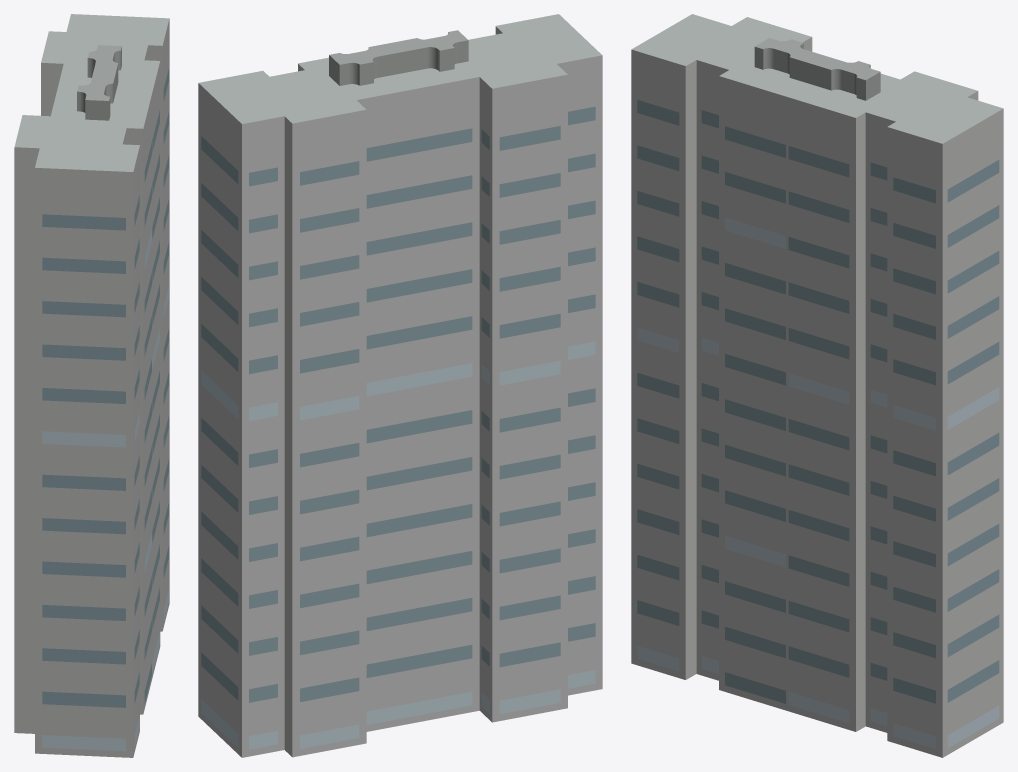
File: fallback-lake-palace-111.glb
3 renders of one model, left to right at view 1: azimuth 30°, elevation 25°; view 2: azimuth 150°, elevation 25°; view 3: azimuth 270°, elevation 25°, orthographic. The views are drawn at different scales.
Parts seen in each view (by area): view 1: fallback-lake-palace-111; view 2: fallback-lake-palace-111; view 3: fallback-lake-palace-111.
Boxes of the visible parts, x1,y1,x2,y2 form: fallback-lake-palace-111: (14, 14, 169, 757); fallback-lake-palace-111: (198, 14, 602, 757); fallback-lake-palace-111: (631, 14, 1003, 757).
Bounding box in the file's own units: 32.5 × 74 × 39.35.
